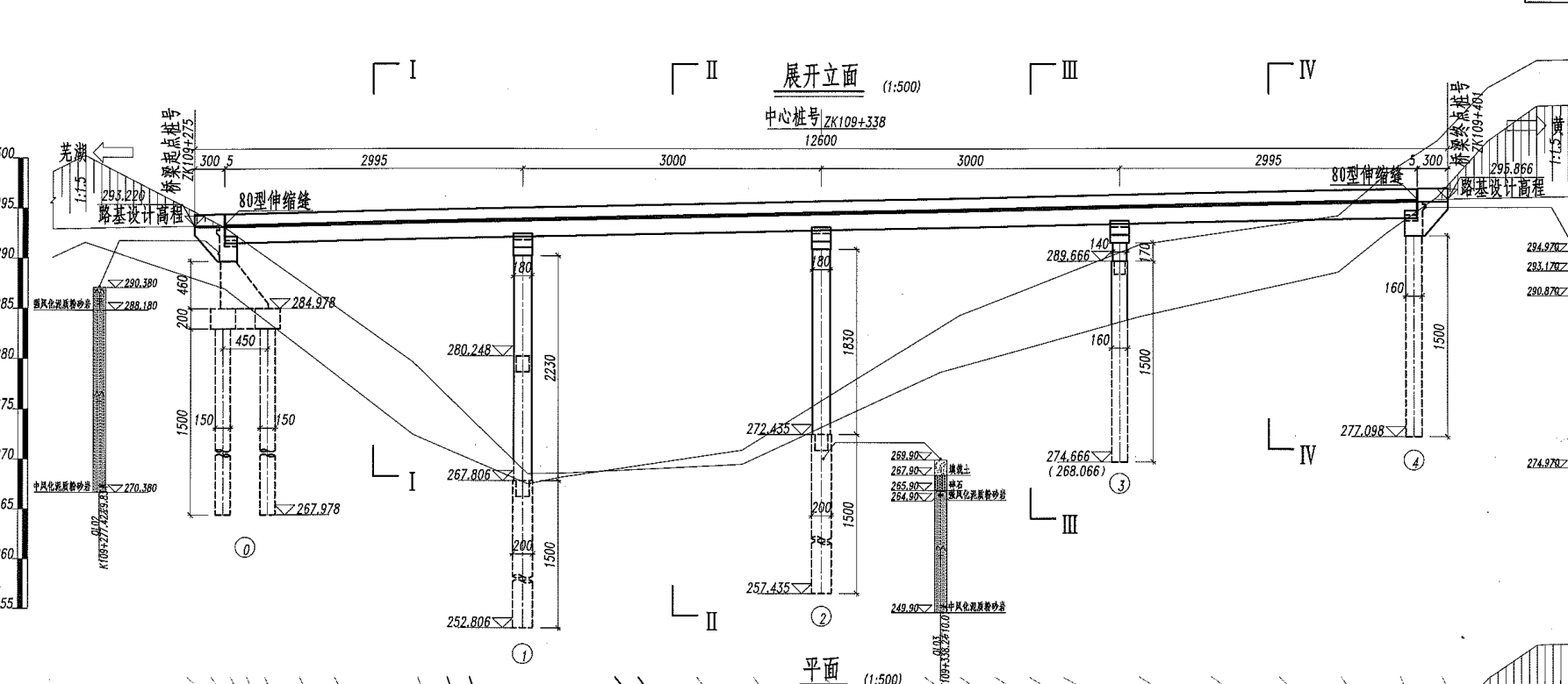A: (188, 132, 1457, 153)
C: (439, 230, 549, 665), (734, 222, 840, 632), (1041, 213, 1138, 502), (1341, 205, 1429, 478)
